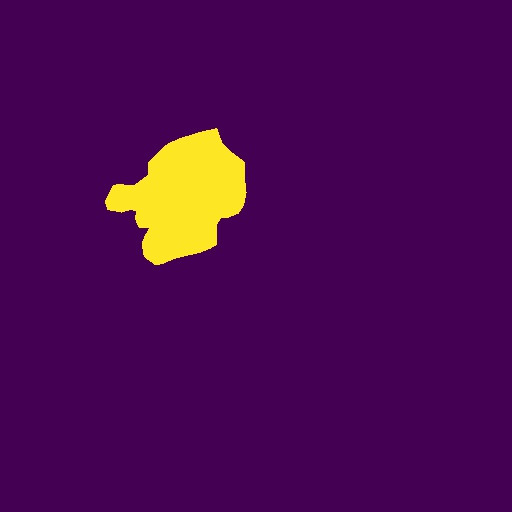Gliomia_tumour: (105, 128, 247, 265)
